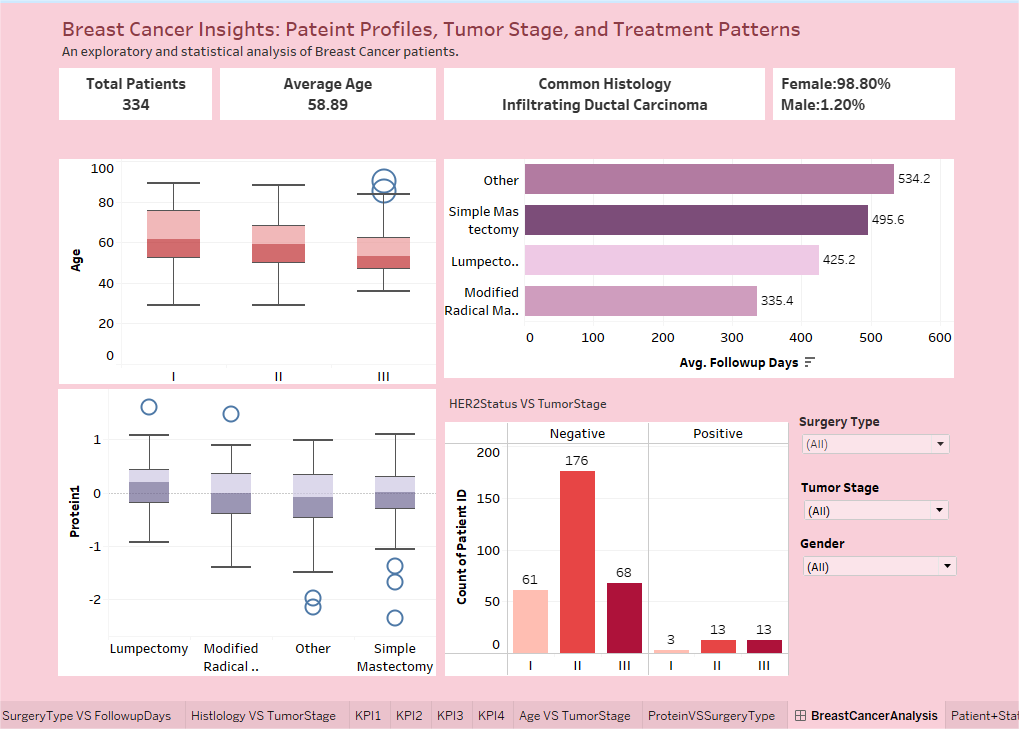

The dashboard page shown, as its layout file describes it:
{"tool":"tableau","page":{"name":"BreastCancerAnalysis","canvas":[1000,1000],"units":"permille","ordinal":0},"visuals":[{"type":"title","box":[8.7,14.3,982.6,94.7]},{"type":"worksheet","title":"KPI1","mark":"Automatic","box":[8.7,108.9,175,107.1]},{"type":"worksheet","title":"KPI2","mark":"Automatic","box":[183.7,108.9,243.5,107.1]},{"type":"worksheet","title":"KPI4","mark":"Automatic","box":[427.2,108.9,357.6,107.1]},{"type":"worksheet","title":"KPI3","mark":"Automatic","box":[784.8,108.9,206.5,107.1]},{"type":"worksheet","title":"Age VS TumorStage","mark":"Automatic","rows":["Age"],"cols":["Tumor_Stage"],"box":[13,223.2,409.8,323.2]},{"type":"worksheet","title":"SurgeryType VS FollowupDays","mark":"Automatic","rows":["Surgery_Type"],"cols":["Followup_Days"],"box":[431.5,223.2,554.4,323.2]},{"type":"worksheet","title":"ProteinVSSurgeryType","mark":"Automatic","rows":["Protein1"],"cols":["Surgery_Type"],"box":[12,553.6,410.9,410.7]},{"type":"worksheet","title":"HER2Status VS TumorStage","mark":"Automatic","rows":["Patient_ID"],"cols":["HER2_Status","Tumor_Stage"],"box":[432.6,555.4,373.9,408.9]},{"type":"filter","title":"SurgeryType VS FollowupDays","param":"[federated.19qjhea0rr9snk15fquw90fa3k5y].[none:Surgery_Type:nk]","box":[817.4,585.7,167.4,100]},{"type":"filter","title":"HER2Status VS TumorStage","param":"[federated.19qjhea0rr9snk15fquw90fa3k5y].[none:Tumor_Stage:nk]","box":[819.6,680.4,164.1,78.6]},{"type":"filter","title":"HER2Status VS TumorStage","param":"[federated.19qjhea0rr9snk15fquw90fa3k5y].[none:Gender:nk]","box":[818.5,760.7,173.9,83.9]}]}

Visuals, with their boxes on the dashboard's canvas, which has no fixed pixel size, in thousandths of its width and height (x1, y1, x2, y2). These are canvas units, not pixel positions in the 1019x729 screenshot, which may show the page scaled, cropped or inside an application window:
title: <box>9,14,991,109</box>
"KPI1" worksheet: <box>9,109,184,216</box>
"KPI2" worksheet: <box>184,109,427,216</box>
"KPI4" worksheet: <box>427,109,785,216</box>
"KPI3" worksheet: <box>785,109,991,216</box>
"Age VS TumorStage" worksheet: <box>13,223,423,546</box>
"SurgeryType VS FollowupDays" worksheet: <box>432,223,986,546</box>
"ProteinVSSurgeryType" worksheet: <box>12,554,423,964</box>
"HER2Status VS TumorStage" worksheet: <box>433,555,806,964</box>
"SurgeryType VS FollowupDays" filter: <box>817,586,985,686</box>
"HER2Status VS TumorStage" filter: <box>820,680,984,759</box>
"HER2Status VS TumorStage" filter: <box>818,761,992,845</box>
